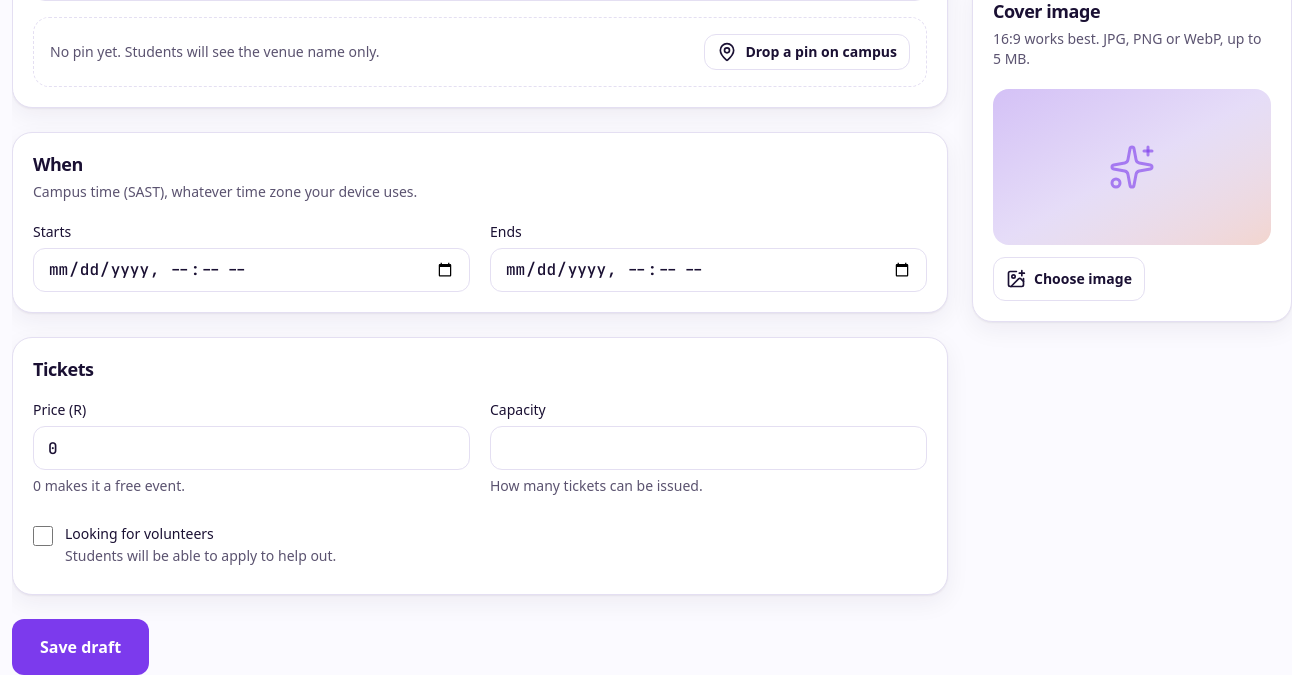
Test: EventEditorPage (new) › rejects a price that isn’t an amount
This screenshot has width=1292, height=675.
(page scrolled)
Step 1. Replace the text in the field labelled "Price (R)" with "R150" → [252, 448], box [33,426,470,470]
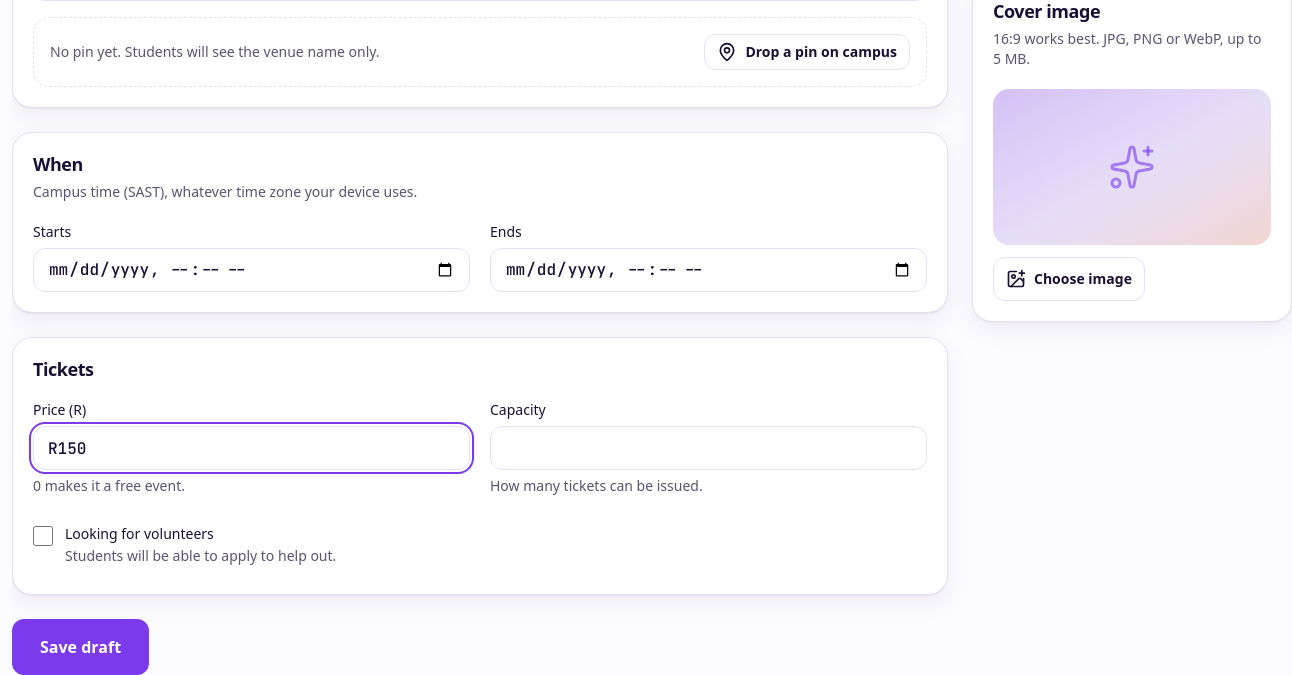
Step 2. Click the button "Save draft" → [81, 647], box [12,619,149,674]
(page scrolled)
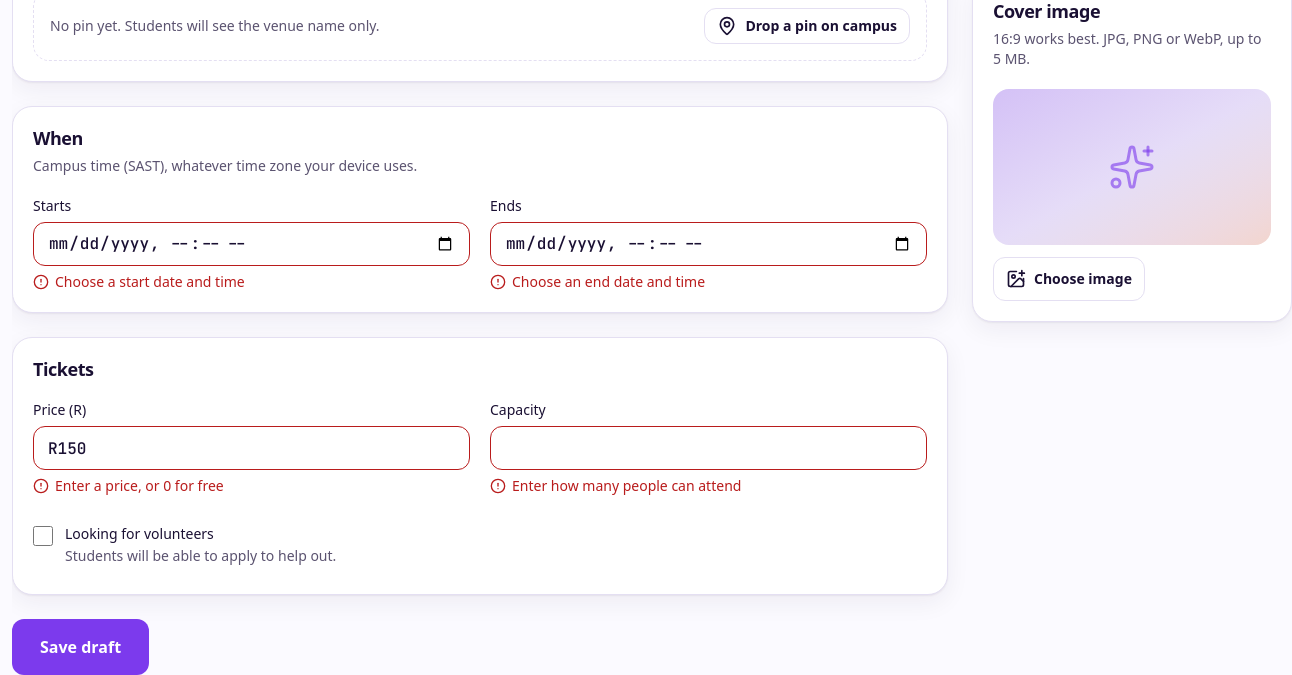
Expected: the text "Enter a price, or 0 for free" is shown, [33,476,224,495]
